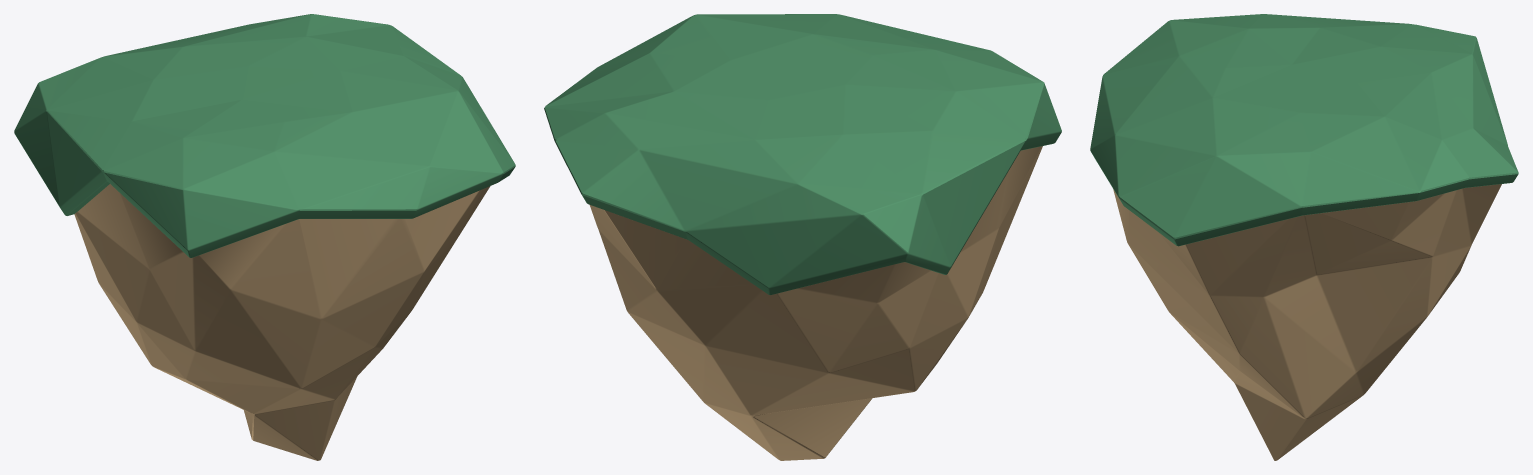
Rendered from Island small.fbx.
The picture shows the model from 3 angles, left to right: view 1: azimuth 30°, elevation 25°; view 2: azimuth 150°, elevation 25°; view 3: azimuth 270°, elevation 25°; orthographic projection. The views are drawn at different scales.
Visible parts, largest first — view 1: grass, rock; view 2: grass, rock; view 3: grass, rock.
Boxes of the visible parts, x1=… form: grass: x1=14, y1=14, x2=515, y2=257; rock: x1=74, y1=184, x2=490, y2=460; grass: x1=544, y1=14, x2=1061, y2=295; rock: x1=589, y1=146, x2=1042, y2=460; grass: x1=1090, y1=14, x2=1518, y2=246; rock: x1=1113, y1=184, x2=1501, y2=460.
Bounding box in the file's own units: 12.49 × 11.74 × 12.5.
